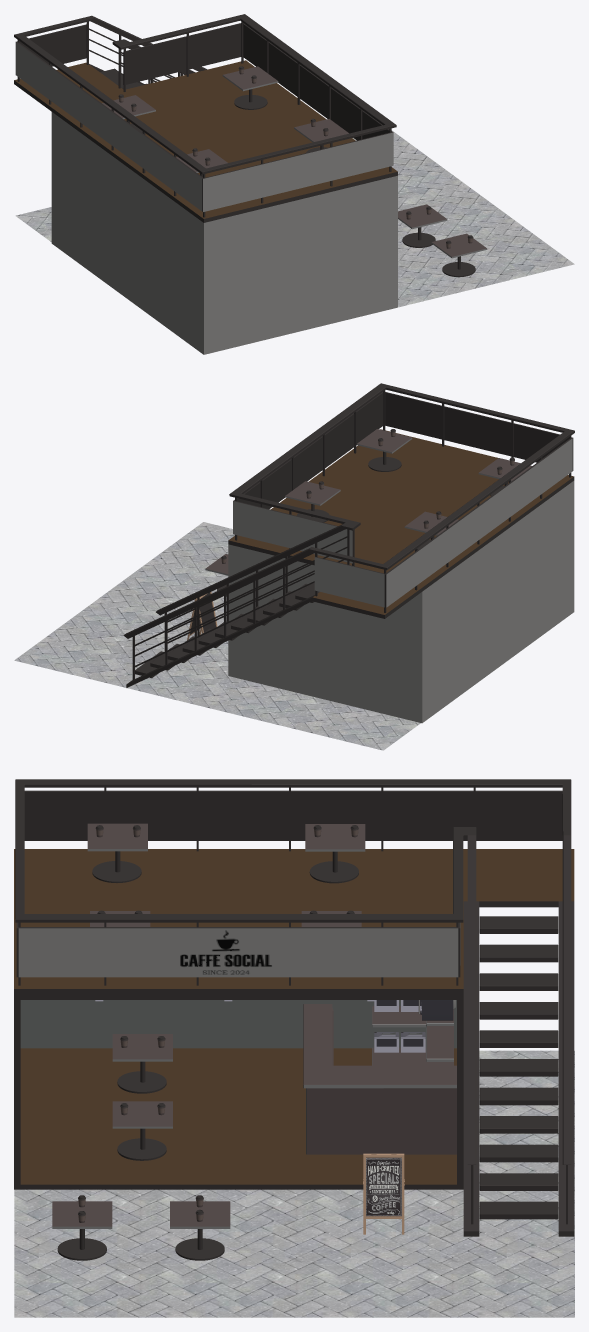
The model's file is CoffeeShop_v3.fbx.
3 renders of one model, top to bottom at view 1: azimuth 30°, elevation 25°; view 2: azimuth 150°, elevation 25°; view 3: azimuth 270°, elevation 25°, orthographic. The views are drawn at different scales.
Visible parts, largest first — view 1: polySurface7, Plane, stem_bar_table_01.005, stem_bar_table_01.011, stem_bar_table_01.010, stem_bar_table_01.004, stem_bar_table_01.006, stem_bar_table_01.003; view 2: polySurface7, Plane, stem_bar_table_01.004, stem_bar_table_01.005, stem_bar_table_01.006, stem_bar_table_01.003, chalkboard; view 3: polySurface7, Plane, Logo, chalkboard, stem_bar_table_01.010, stem_bar_table_01.003, stem_bar_table_01.011, stem_bar_table_01.002, stem_bar_table_01.001, stem_bar_table_01.006, microwave.
Part boxes in pixels (x1,y1,x2,y2): polySurface7: (14,14,397,354); Plane: (15,130,574,307); stem_bar_table_01.005: (222,66,278,109); stem_bar_table_01.011: (431,233,487,277); stem_bar_table_01.010: (398,204,447,247); stem_bar_table_01.004: (294,119,348,152); stem_bar_table_01.006: (102,95,155,132); stem_bar_table_01.003: (176,149,227,176); polySurface7: (123,383,574,723); Plane: (14,522,420,750); stem_bar_table_01.004: (357,429,412,471); stem_bar_table_01.005: (285,481,340,522); stem_bar_table_01.006: (404,511,458,549); stem_bar_table_01.003: (478,458,531,495); chalkboard: (187,592,217,640); polySurface7: (14,779,574,1236); Plane: (14,1050,574,1317); Logo: (179,930,272,975); chalkboard: (363,1153,404,1234); stem_bar_table_01.010: (170,1201,230,1260); stem_bar_table_01.003: (87,823,147,882); stem_bar_table_01.011: (52,1201,112,1260); stem_bar_table_01.002: (112,1034,172,1093); stem_bar_table_01.001: (112,1101,172,1160); stem_bar_table_01.006: (305,824,365,883); microwave: (420,1000,455,1020).
Size of the model in its own units: 19.39 by 9.12 by 17.12.
